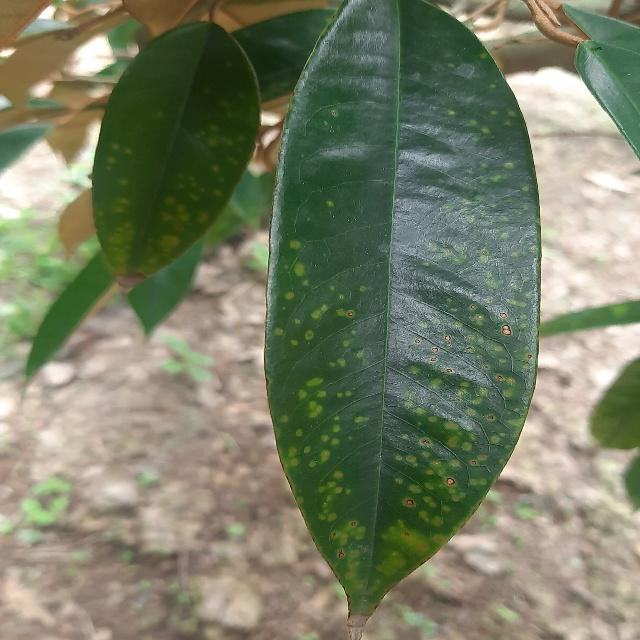Leaf Spot: (263, 0, 547, 640), (79, 11, 271, 315)
